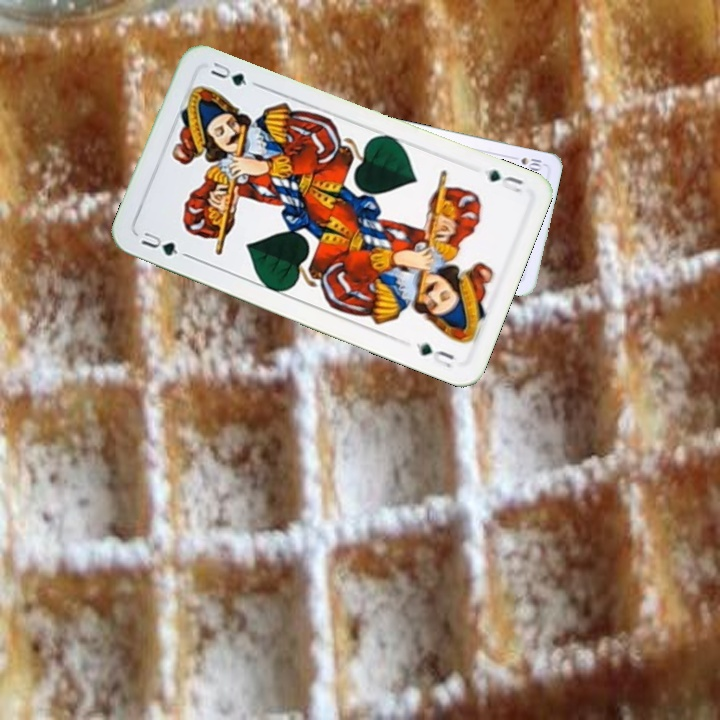GU: (137, 227, 181, 259), (484, 165, 526, 196)
S10: (507, 152, 547, 173)
